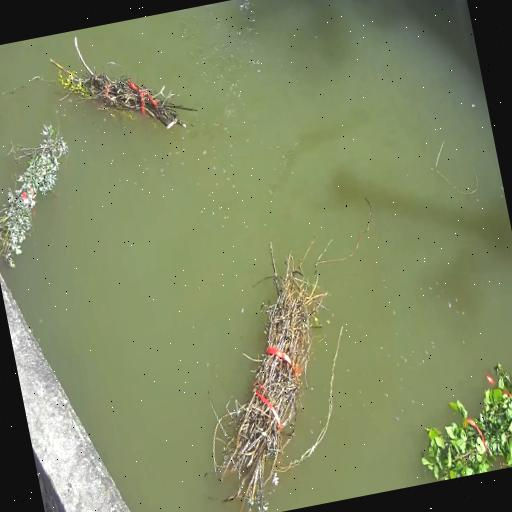twig: (214, 243, 326, 512), (50, 49, 196, 128), (423, 365, 512, 481), (0, 124, 70, 267)
